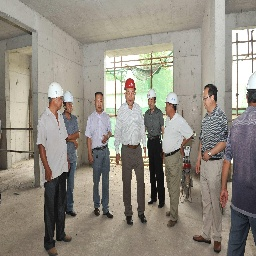helmet: (48, 82, 63, 98), (164, 92, 180, 104), (63, 89, 75, 104), (122, 79, 138, 90), (147, 89, 156, 99)
no-helmet: (202, 81, 217, 97), (94, 90, 104, 103)
no-vest: (227, 107, 256, 210), (41, 108, 68, 183), (201, 110, 225, 156), (121, 103, 143, 150), (163, 117, 187, 160), (90, 111, 112, 151), (64, 118, 78, 164), (146, 109, 163, 139)
person: (38, 78, 77, 256), (194, 81, 229, 254), (227, 74, 256, 256), (114, 78, 148, 231), (161, 90, 194, 232), (85, 88, 116, 224), (145, 88, 166, 210), (64, 89, 80, 217)
